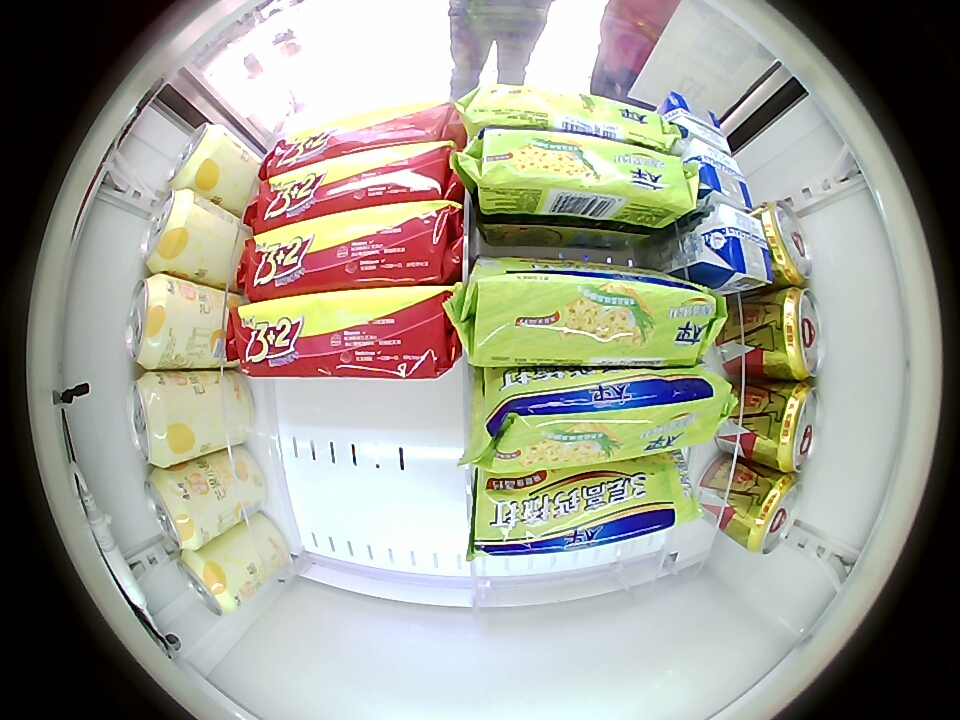3jia2: (237, 286, 456, 380), (246, 202, 453, 295), (256, 145, 452, 229), (264, 106, 452, 174)
anmuxi: (691, 202, 773, 289), (680, 136, 753, 210), (658, 92, 732, 154)
dongpeng: (765, 287, 825, 380), (740, 472, 803, 554), (764, 381, 821, 471), (759, 201, 813, 287)
mangguoxiaolao: (128, 372, 183, 468), (126, 274, 178, 369), (140, 189, 198, 274), (144, 469, 204, 550), (166, 121, 227, 192), (178, 550, 240, 616)
taipingshuda: (469, 264, 724, 368), (483, 367, 728, 470), (473, 456, 685, 554), (477, 131, 693, 226), (465, 83, 671, 149)
